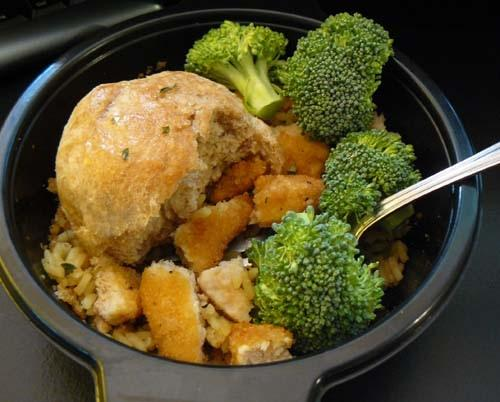broccoli: (243, 204, 385, 338), (282, 11, 394, 146), (185, 20, 288, 120), (320, 129, 423, 224)
